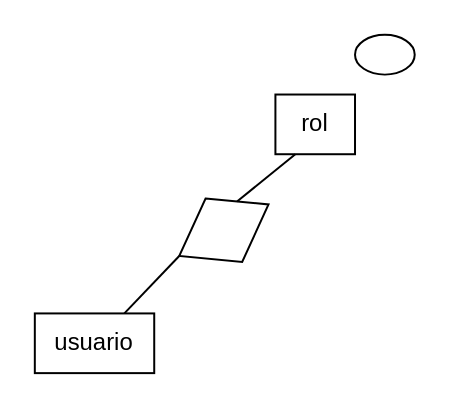
This 450x408 diagram has some shape labels left out. Here are the shapes that lost their labels. From the top down, the box of each, then its label:
(353, 33, 415, 75): idrol
(159, 170, 287, 288): Tiene
